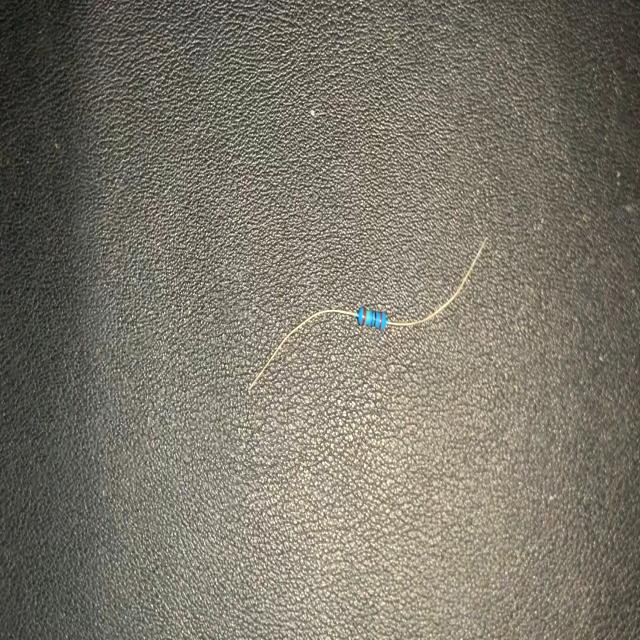resistor: (245, 233, 494, 411)
